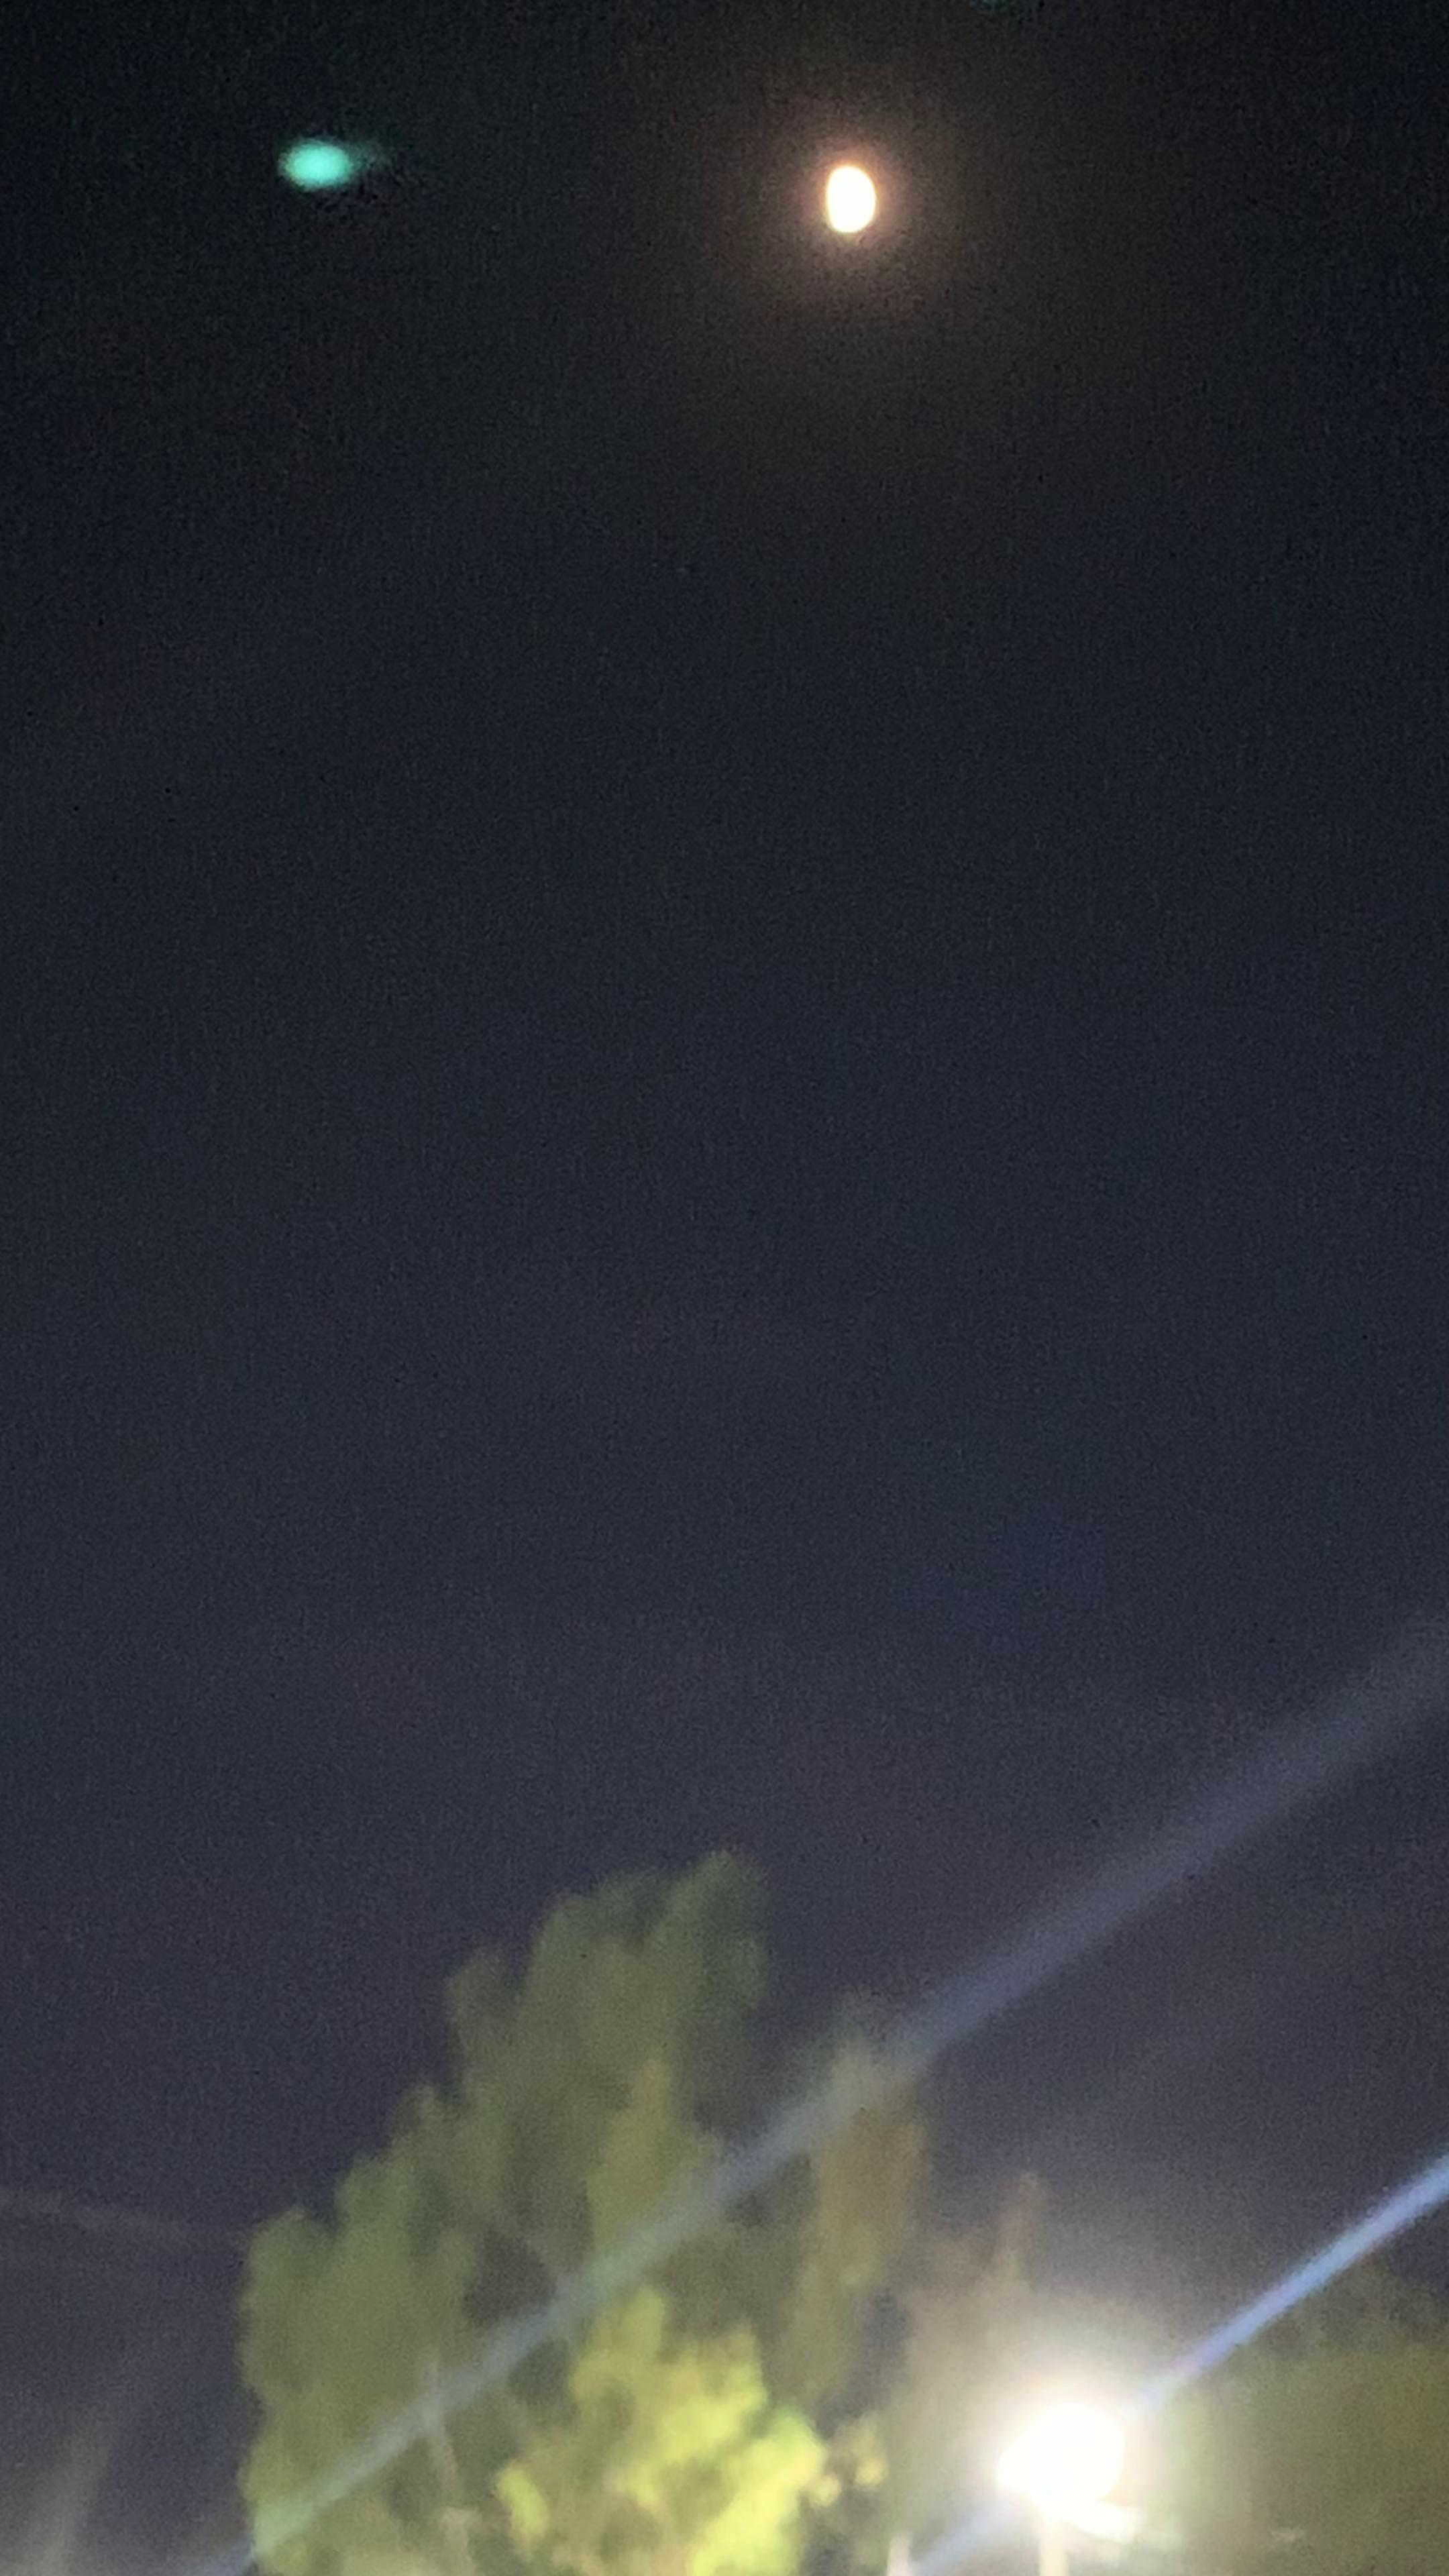moon: (786, 140, 920, 262)
